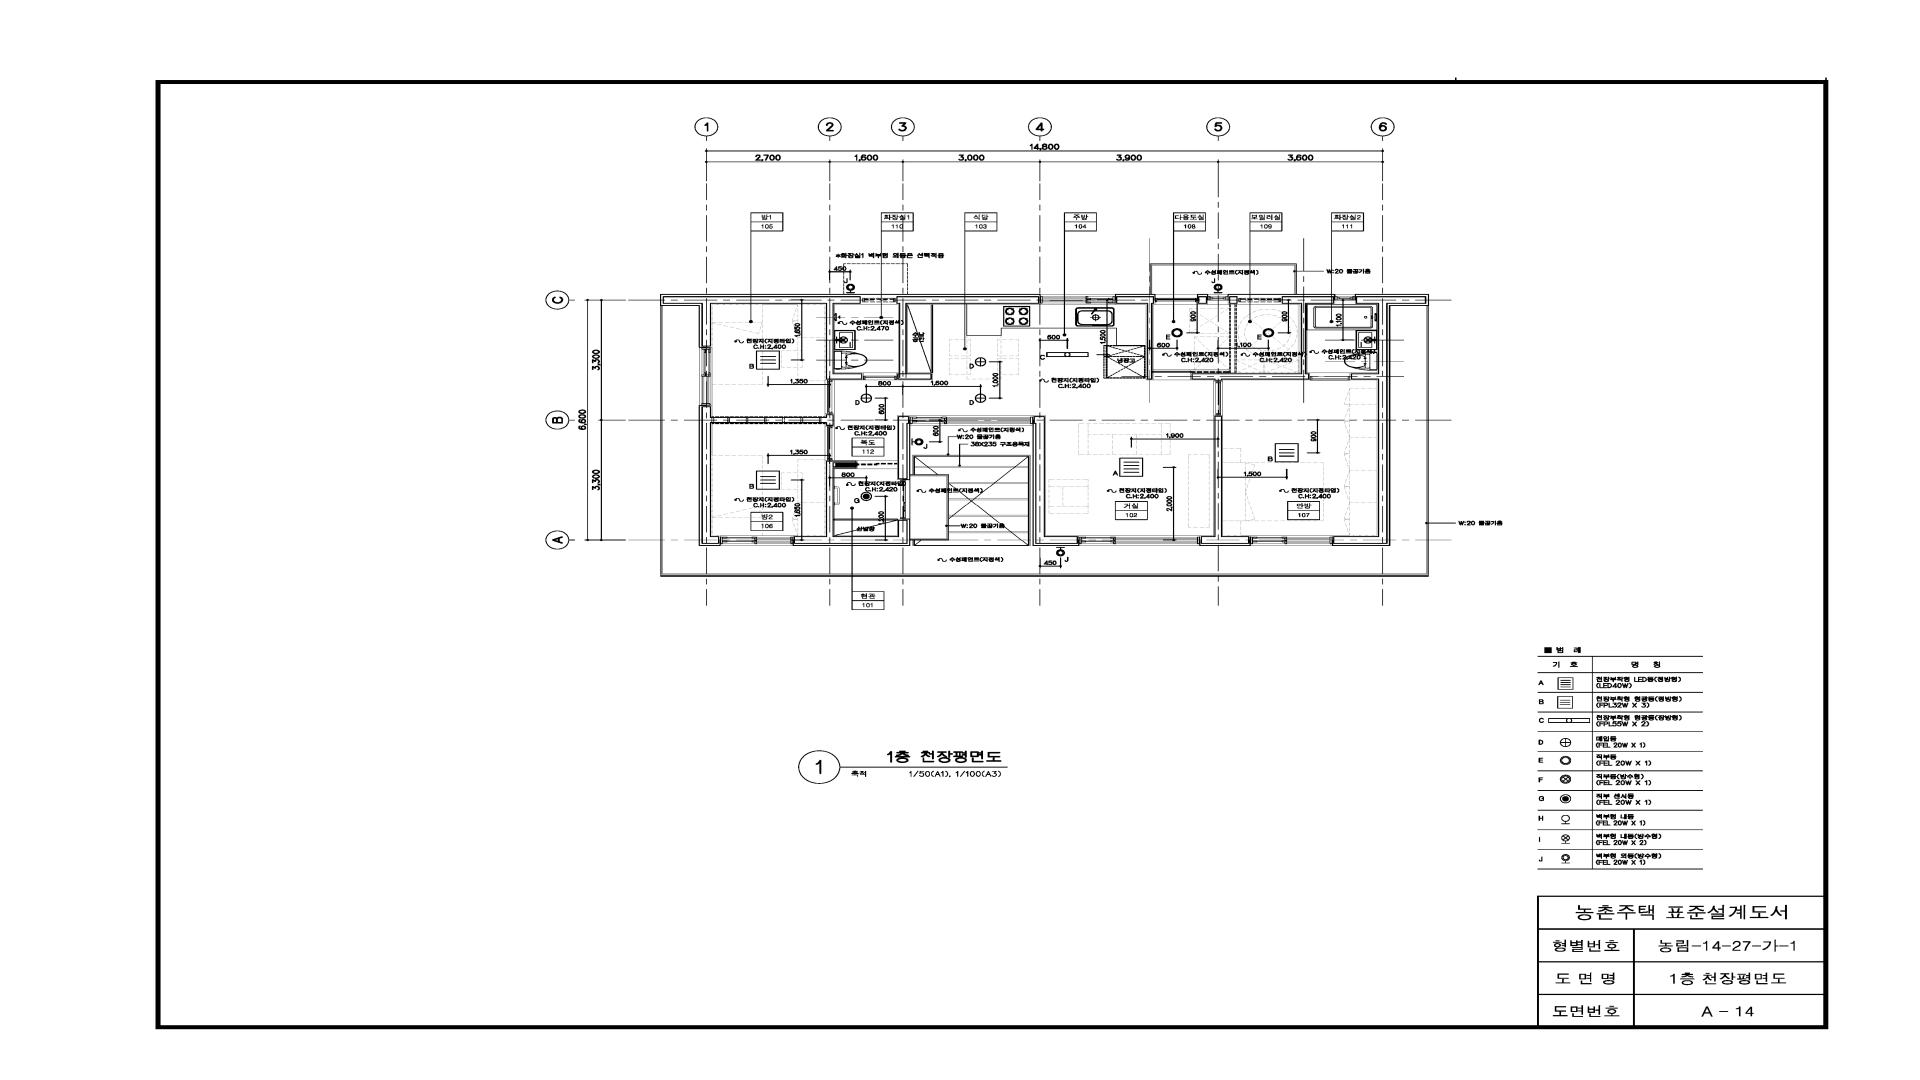door: (901, 480, 910, 520), (825, 380, 835, 414), (825, 426, 835, 460), (1213, 381, 1222, 415), (1153, 369, 1230, 373), (1309, 373, 1350, 380), (864, 373, 897, 380)
wall: (1332, 294, 1429, 546), (659, 294, 862, 380), (1192, 294, 1335, 381), (897, 294, 1039, 373), (794, 460, 907, 543), (1200, 415, 1250, 546), (1033, 415, 1079, 546), (1116, 294, 1155, 380), (699, 406, 720, 546), (712, 417, 822, 423), (898, 417, 909, 479), (1230, 303, 1236, 373), (897, 373, 932, 380), (822, 414, 833, 426), (1197, 294, 1208, 303), (1228, 294, 1238, 303)
window: (910, 415, 1034, 426), (1079, 535, 1200, 546), (1250, 535, 1333, 546), (1039, 294, 1116, 305), (699, 347, 712, 406), (720, 535, 794, 546), (1155, 294, 1197, 305), (1238, 294, 1280, 303), (861, 294, 897, 303), (1335, 294, 1356, 305), (1208, 294, 1228, 305)
